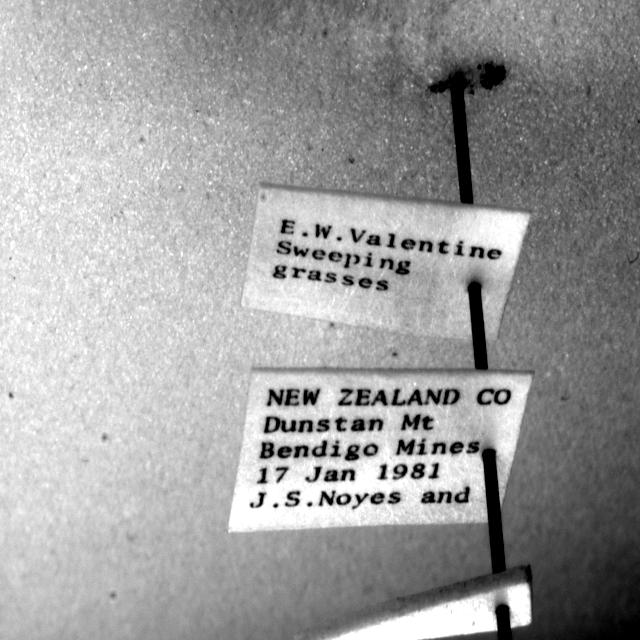typed_label: (229, 369, 532, 532), (241, 186, 530, 339)
